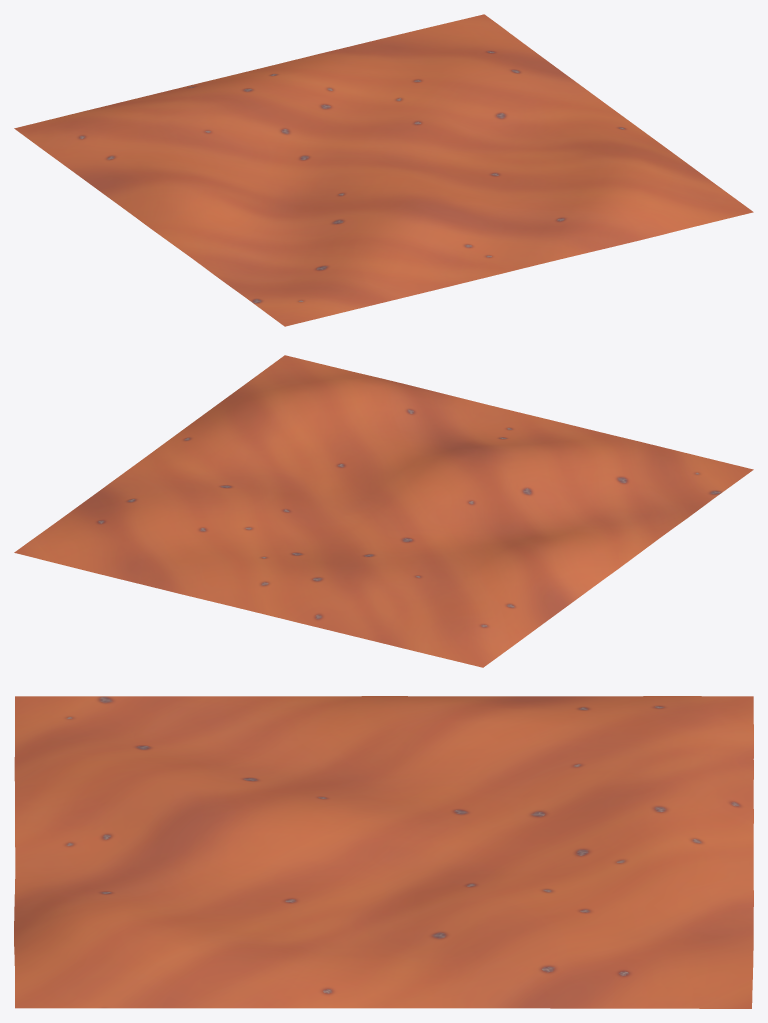
Rendered from SM_SandGeoDecal_04.fbx.
3 renders of one model, top to bottom at view 1: azimuth 30°, elevation 25°; view 2: azimuth 150°, elevation 25°; view 3: azimuth 270°, elevation 25°, orthographic. The views are drawn at different scales.
Parts seen in each view (by area): view 1: SM_SandGéoDeca_04; view 2: SM_SandGéoDeca_04; view 3: SM_SandGéoDeca_04.
Boxes of the visible parts, x1,y1,x2,y2 form: SM_SandGéoDeca_04: (14,14,753,326); SM_SandGéoDeca_04: (14,355,753,667); SM_SandGéoDeca_04: (14,696,753,1008).
Bounding box in the file's own units: 401 × 15.9 × 401.
